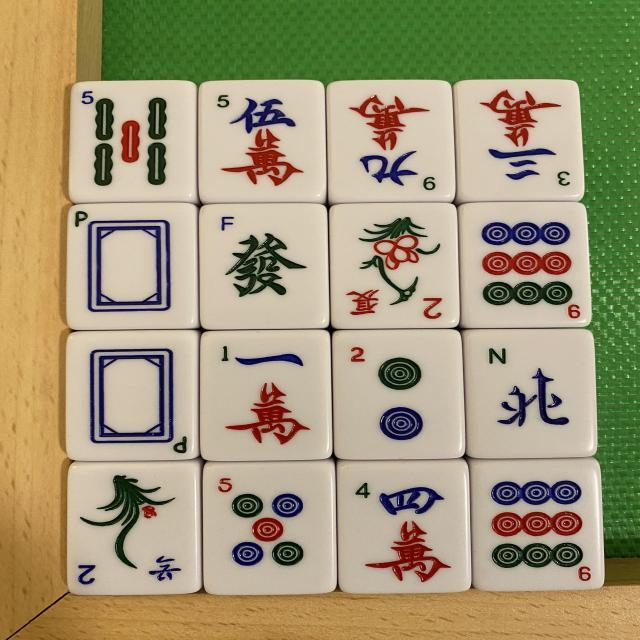bf2: (70, 461, 202, 594)
bs2: (338, 205, 457, 324)
hdg: (204, 208, 328, 332)
hdw: (68, 202, 200, 330), (66, 332, 196, 460)
hwn: (465, 332, 590, 456)
sb5: (70, 83, 195, 204)
sc1: (205, 328, 332, 456)
sc3: (461, 79, 584, 201)
sc4: (339, 461, 472, 594)
sc5: (204, 80, 326, 204)
sc9: (328, 83, 450, 199)
sd2: (334, 333, 462, 463)
sd5: (205, 462, 336, 595)
sd9: (474, 459, 602, 591), (468, 202, 590, 322)
